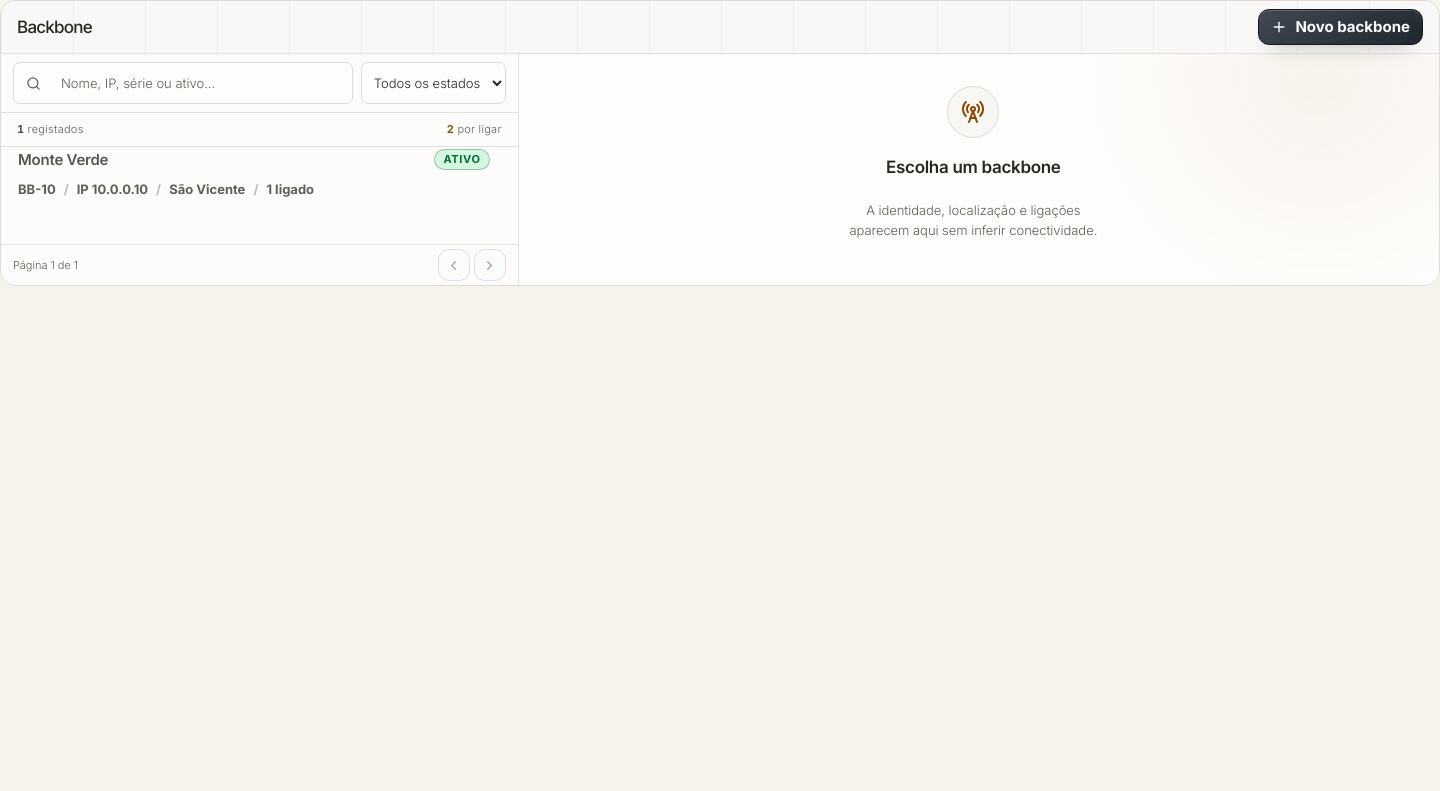
Scenario: Backbone workspace › keeps only failed bulk selections with their server messages after a 409
This screenshot has width=1440, height=791.
Click the option "Monte Verde Ativo BB-10 IP 10.0.0.10 São Vicente 1 ligado".
click(63, 160)  # box [1,147,507,200]
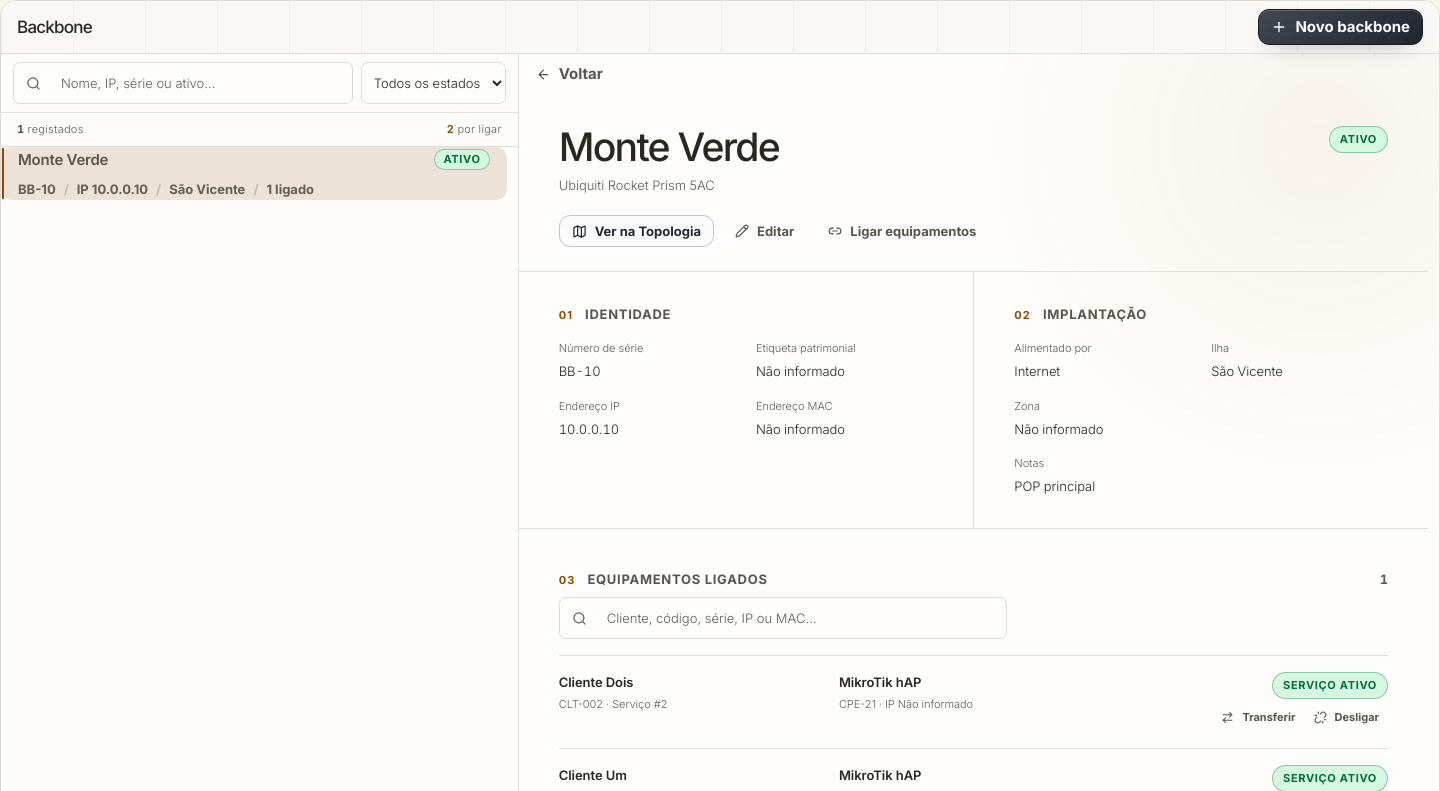
expect the button "Ligar equipamentos" is shown: met
Click the button "Ligar equipamentos".
click(902, 231)  # box [815,215,989,247]
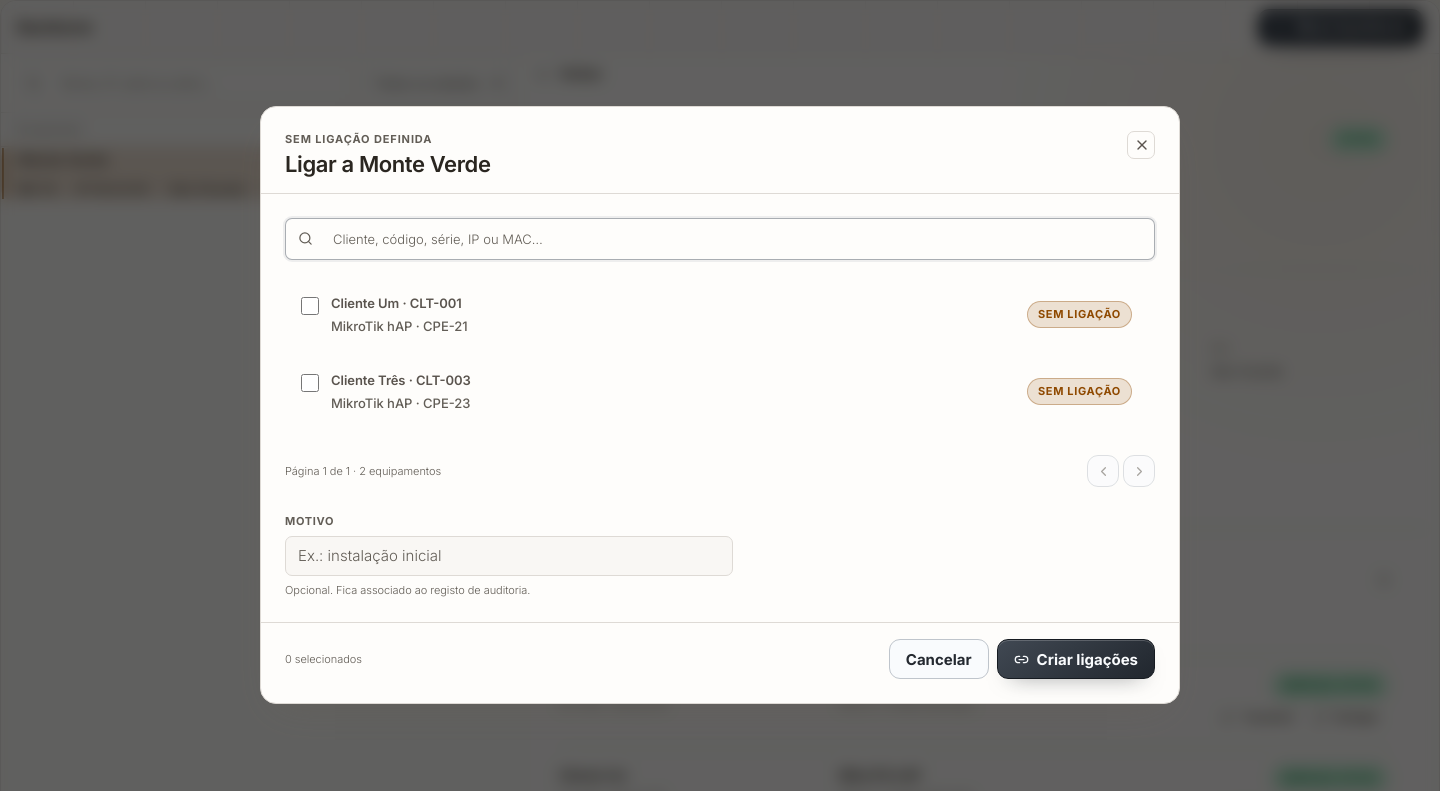
expect the checkbox labelled "Cliente Um · CLT-001 MikroTik hAP · CPE-21" is shown: met
Click the checkbox labelled "Cliente Um · CLT-001 MikroTik hAP · CPE-21".
click(310, 306)  # box [301,297,319,315]
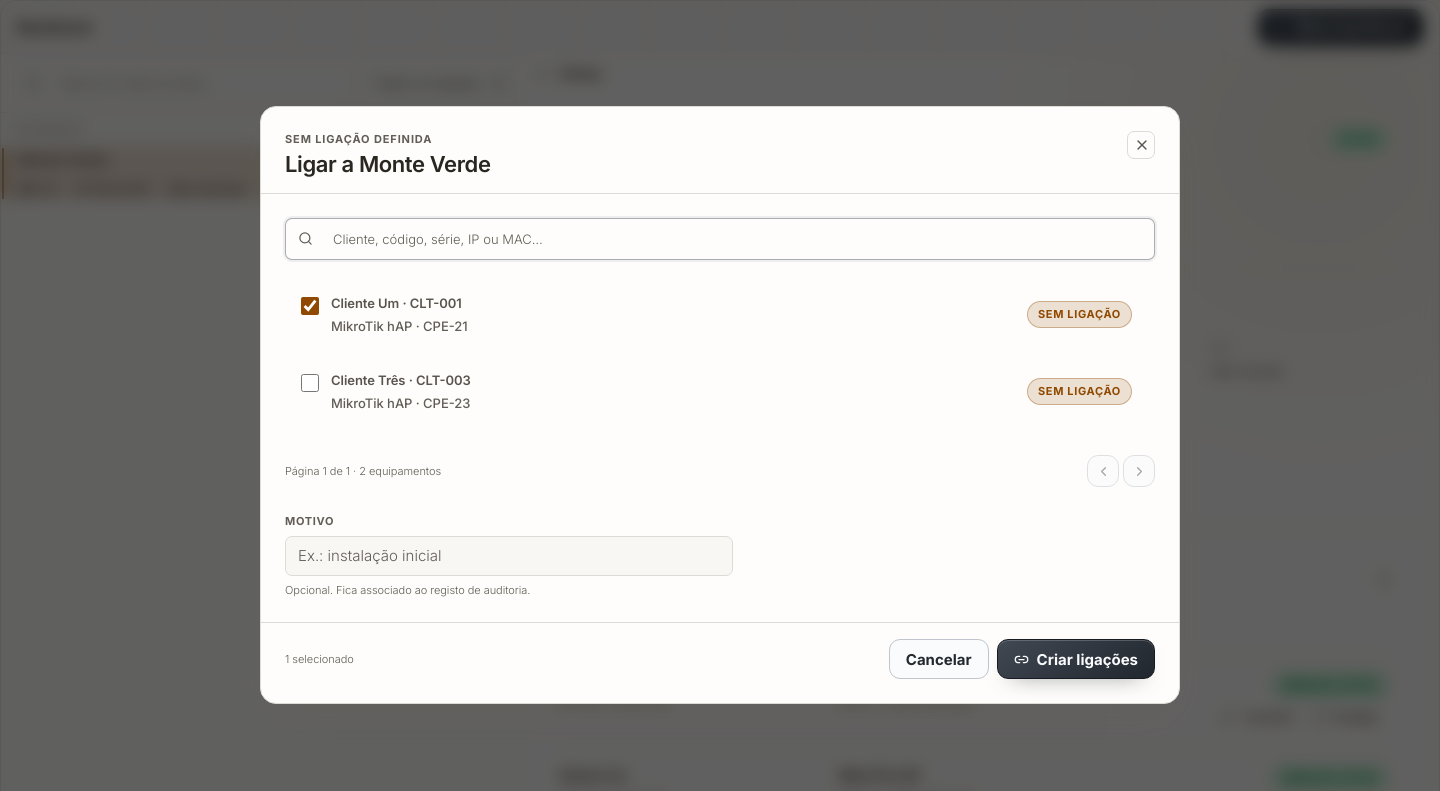
expect the checkbox labelled "Cliente Três · CLT-003 MikroTik hAP · CPE-23" is shown: met
Click the checkbox labelled "Cliente Três · CLT-003 MikroTik hAP · CPE-23".
click(310, 383)  # box [301,374,319,392]
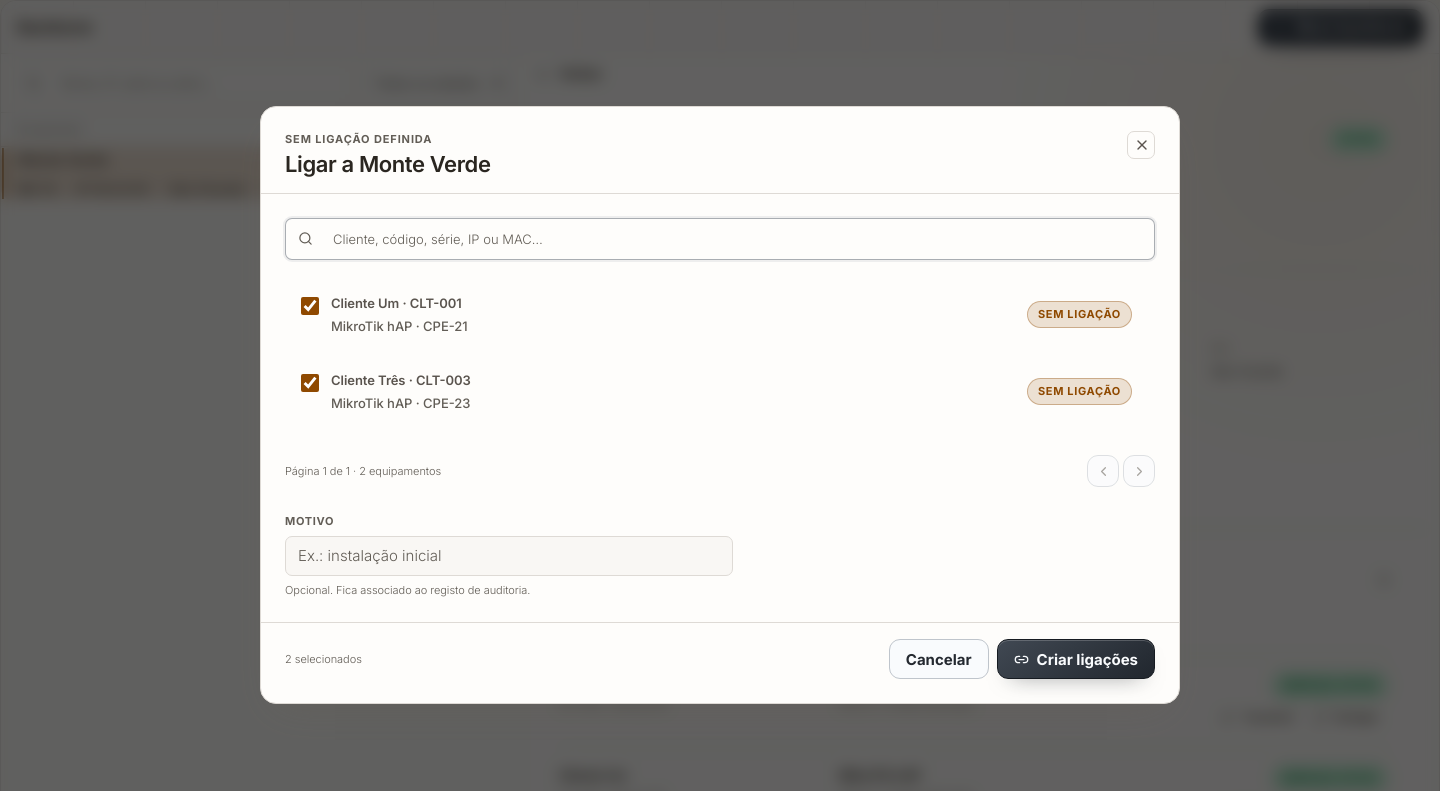
expect the button "Criar ligações" is shown: met
Click the button "Criar ligações".
click(1076, 660)  # box [997,640,1155,680]
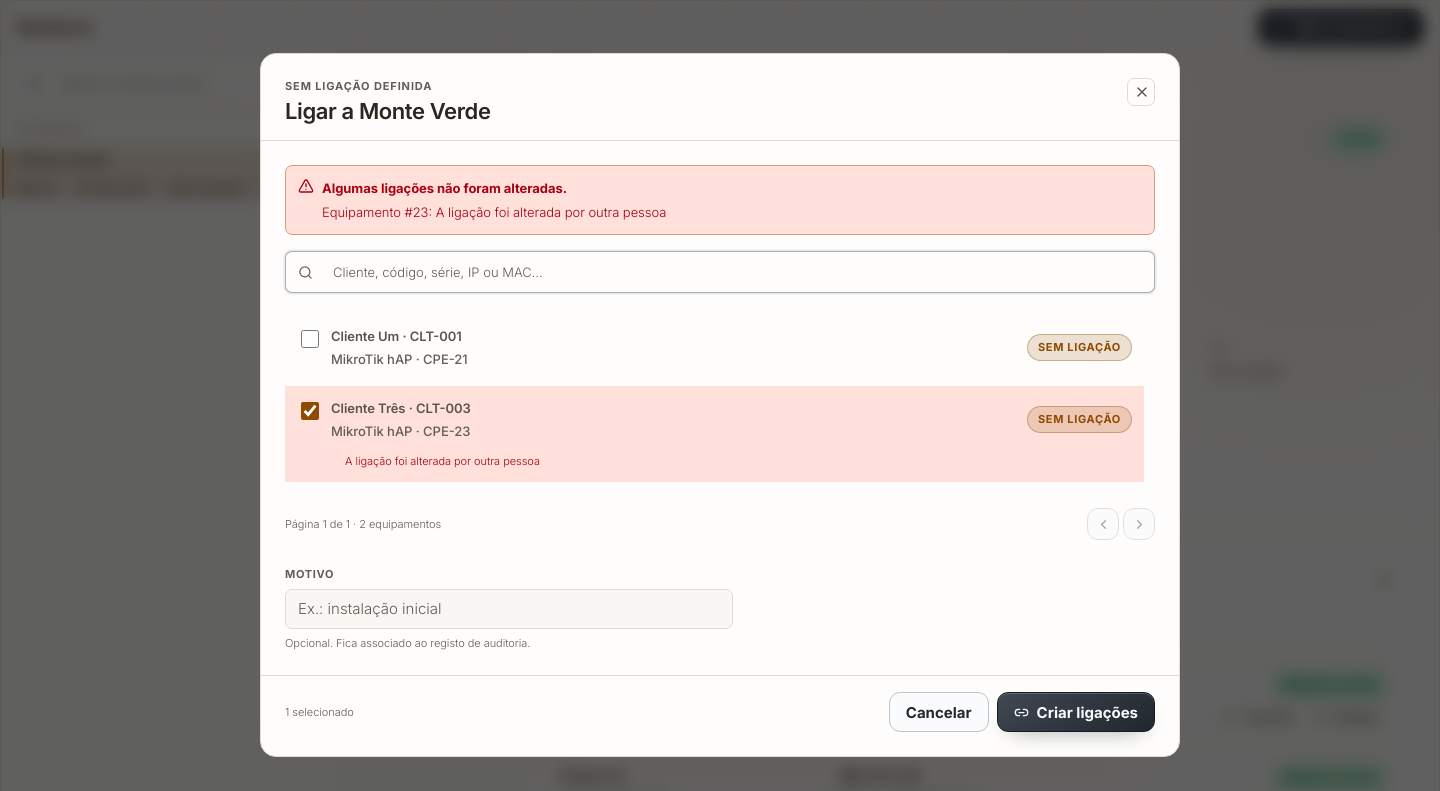
expect the dialog is shown: met, box [260,53,1180,757]
expect the message shows "Equipamento #23: A ligação foi alterada por outra pessoa": met, box [285,165,1155,235]
